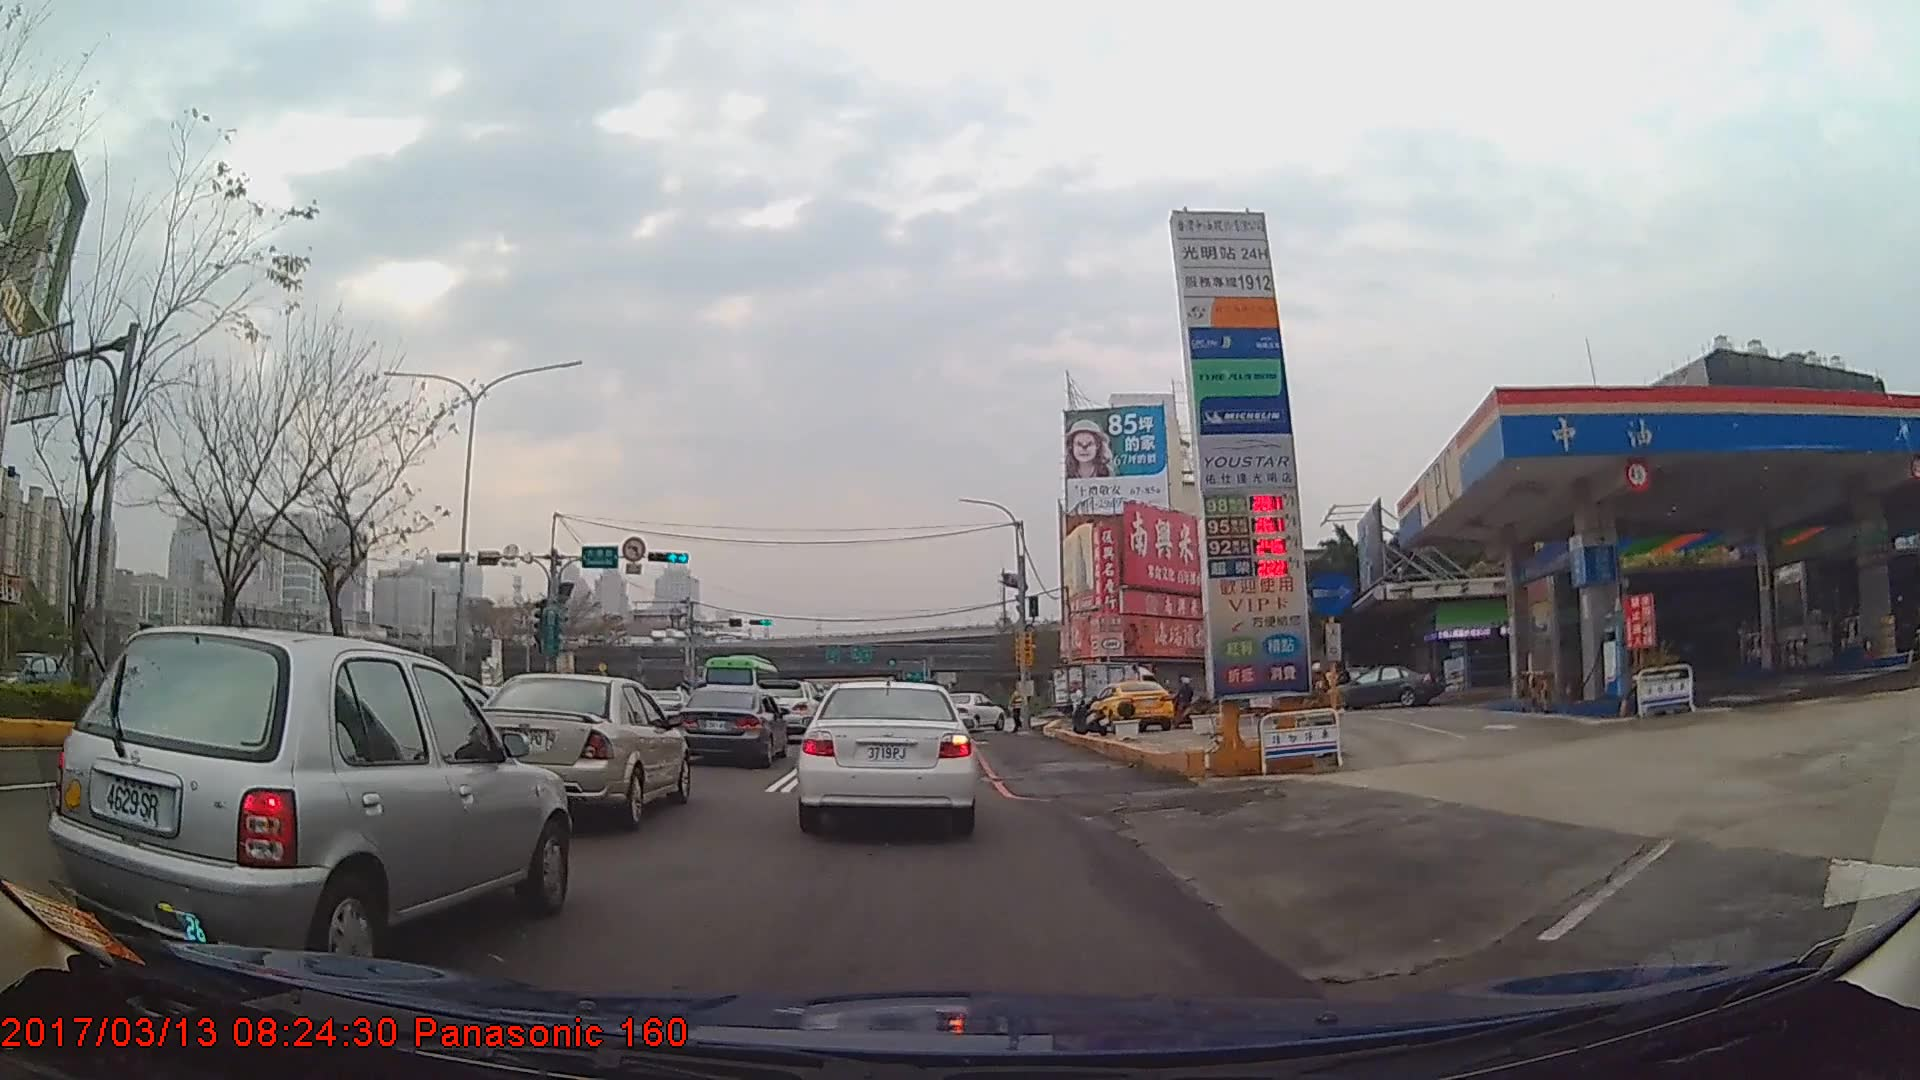rider: (106, 622, 190, 776), (1297, 665, 1331, 725), (1169, 677, 1205, 731), (1268, 672, 1288, 722)
vehicle: (44, 626, 570, 968), (461, 670, 693, 828), (799, 678, 976, 833), (670, 683, 792, 768), (1049, 660, 1158, 722), (1326, 665, 1442, 710), (698, 653, 779, 715), (751, 676, 826, 738), (1091, 678, 1175, 731), (0, 650, 68, 707), (939, 690, 1007, 732)
